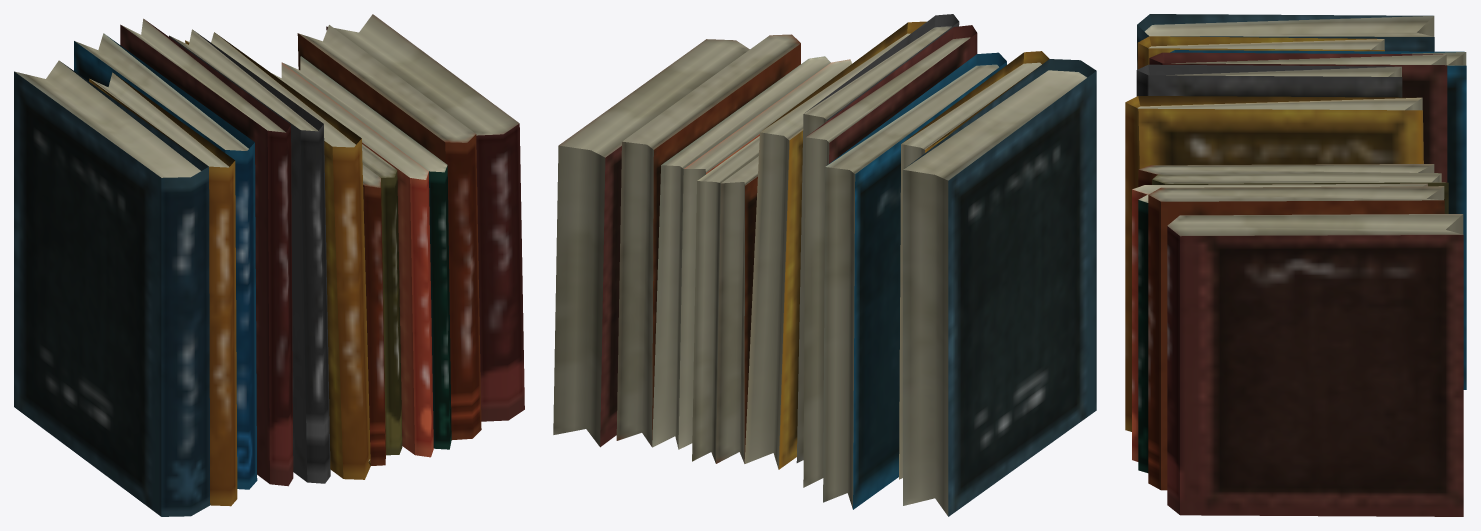
Rendered from M_Home_Garden_Book_Collection_02.fbx.
3 renders of one model, left to right at view 1: azimuth 30°, elevation 25°; view 2: azimuth 150°, elevation 25°; view 3: azimuth 270°, elevation 25°, orthographic. The views are drawn at different scales.
Visible parts, largest first — view 1: M_Home_Garden_Book_Collection_02; view 2: M_Home_Garden_Book_Collection_02; view 3: M_Home_Garden_Book_Collection_02.
Part boxes in pixels (x1=…): M_Home_Garden_Book_Collection_02: x1=14, y1=14, x2=524, y2=516; M_Home_Garden_Book_Collection_02: x1=553, y1=14, x2=1096, y2=516; M_Home_Garden_Book_Collection_02: x1=1125, y1=14, x2=1466, y2=516.
Size of the model in its own units: 41.9 by 37.44 by 33.92.
